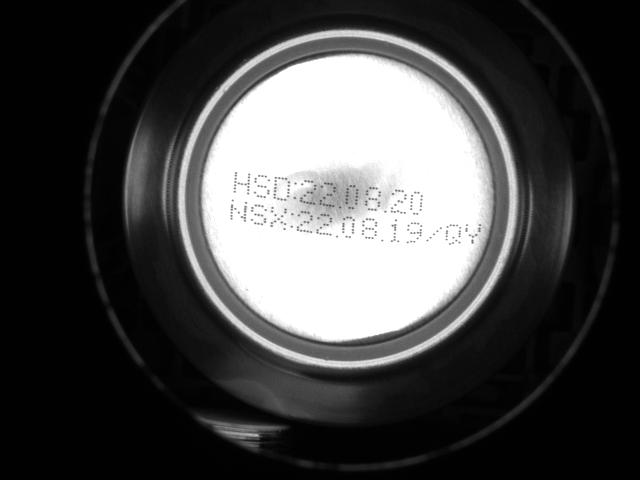.: (337, 192, 343, 210), (333, 221, 339, 239), (382, 196, 388, 214), (379, 226, 385, 244)
/: (423, 225, 442, 244)
0: (344, 182, 359, 210), (340, 212, 355, 240), (408, 189, 423, 217)
1: (389, 217, 402, 244)
2: (299, 176, 316, 206), (318, 179, 335, 209), (295, 207, 312, 237), (389, 185, 406, 215), (315, 210, 332, 240)
8: (363, 184, 382, 214), (360, 212, 379, 242)
9: (404, 220, 423, 246)
:: (292, 180, 298, 200), (288, 209, 294, 229)
D: (272, 175, 291, 202)
H: (231, 170, 251, 195)
N: (229, 197, 248, 223)
Q: (444, 220, 463, 247)
S: (252, 171, 271, 201), (248, 197, 267, 227)
X: (270, 204, 287, 231)
Y: (463, 220, 483, 248)
